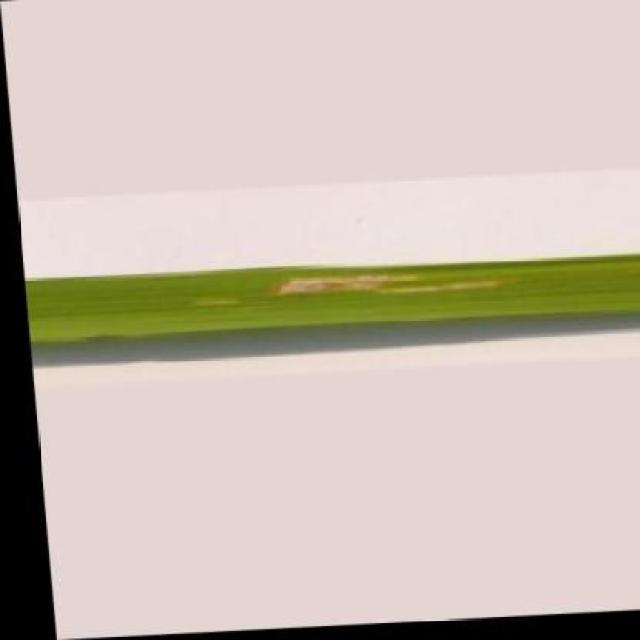Brown_Spot: (18, 248, 640, 349)
